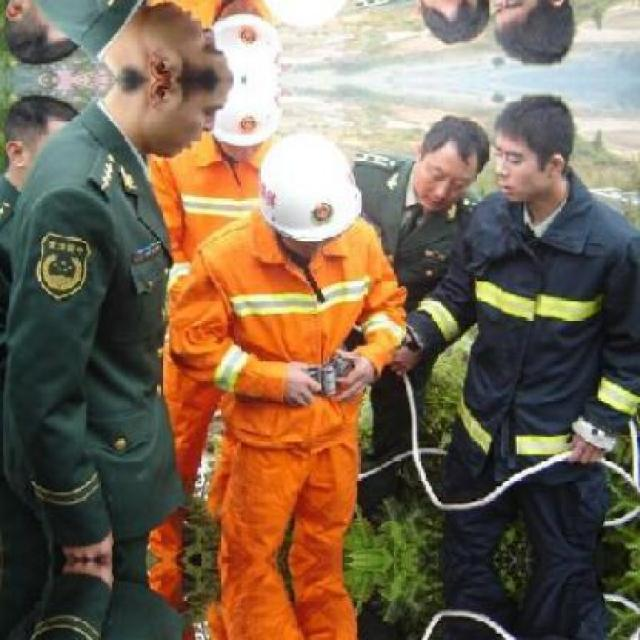Reflective-Jacket: (420, 202, 635, 482), (197, 223, 400, 466)
Safety-Helmet: (0, 0, 286, 74), (242, 122, 376, 249), (205, 88, 288, 150)
